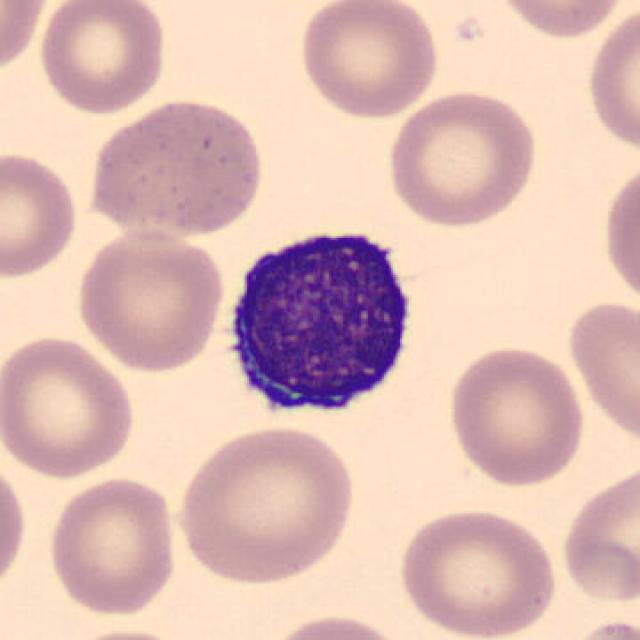Lymphocyte: (210, 212, 426, 428)
RBC: (171, 421, 361, 589), (84, 93, 268, 240), (73, 225, 227, 374), (382, 86, 540, 230), (395, 504, 560, 640), (444, 342, 588, 490), (0, 330, 139, 481), (43, 472, 181, 619), (295, 0, 443, 122), (33, 0, 170, 116), (556, 462, 638, 608), (564, 296, 638, 448), (0, 146, 82, 282), (583, 2, 640, 158), (599, 155, 640, 312), (491, 0, 629, 41), (258, 610, 414, 640), (0, 453, 30, 598), (0, 0, 50, 81), (53, 626, 201, 640), (560, 615, 640, 640)
